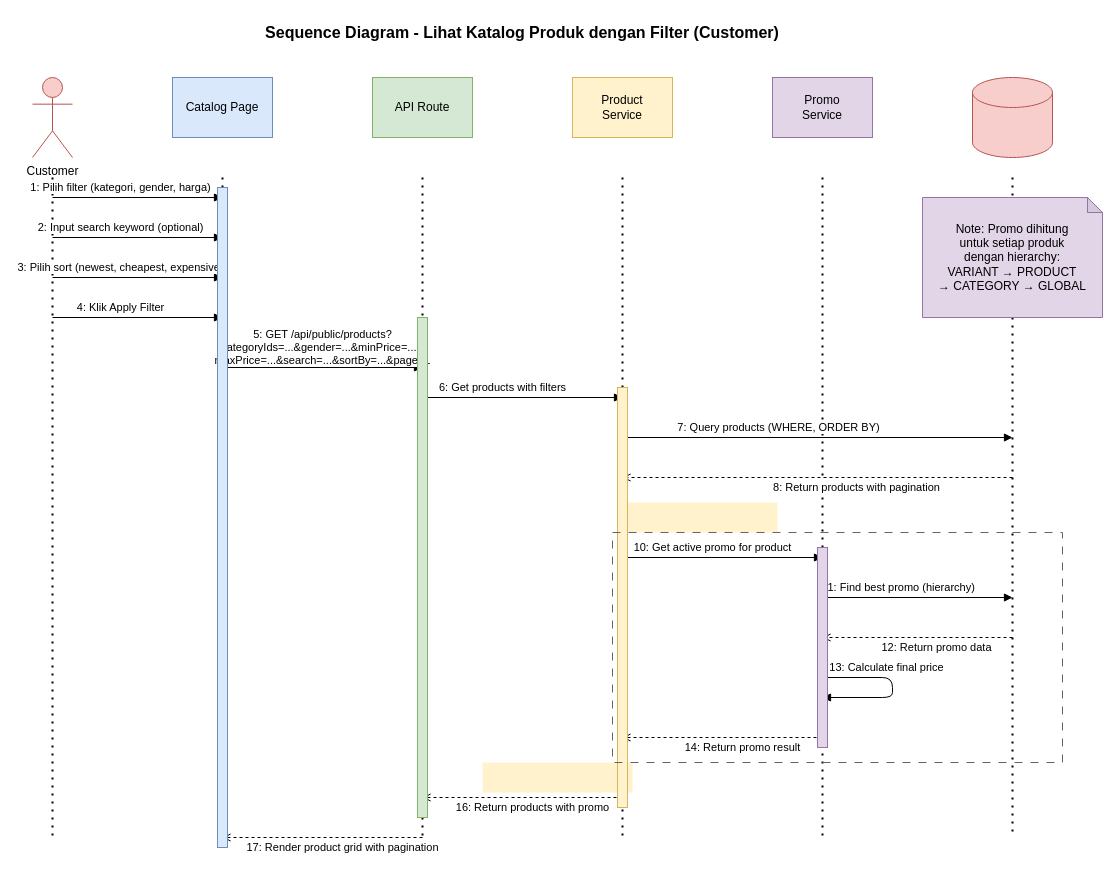
Image size: 1120x871. Some labels were removed from this diagram. Here are the shapes that lost their labels. From the top down, the centre of each, then its label:
At [1012,117]: "Database".
At [702,517]: "9: Loop for each product".
At [557,777]: "15: End loop".
